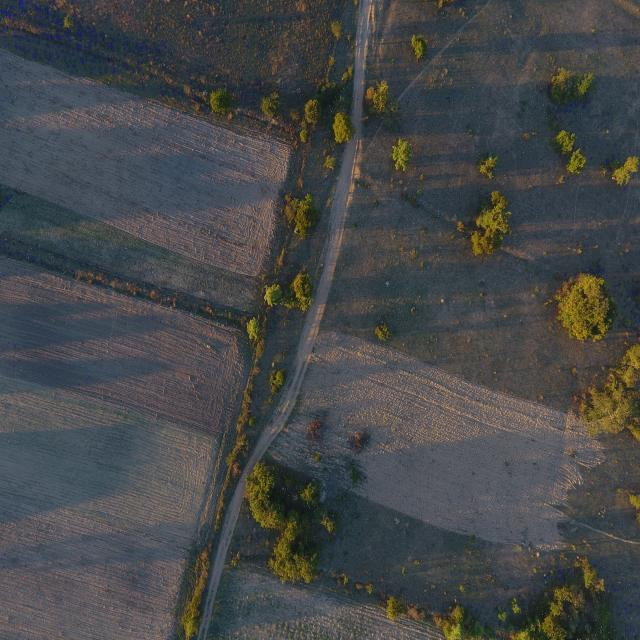boundaries: (22, 11, 434, 631)
